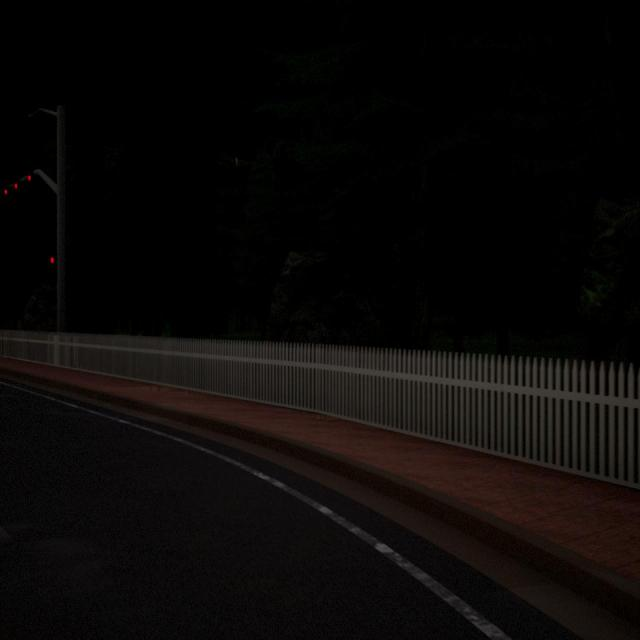traffic_light: (4, 188, 8, 196), (14, 182, 18, 190), (50, 256, 54, 264), (28, 175, 31, 181)
